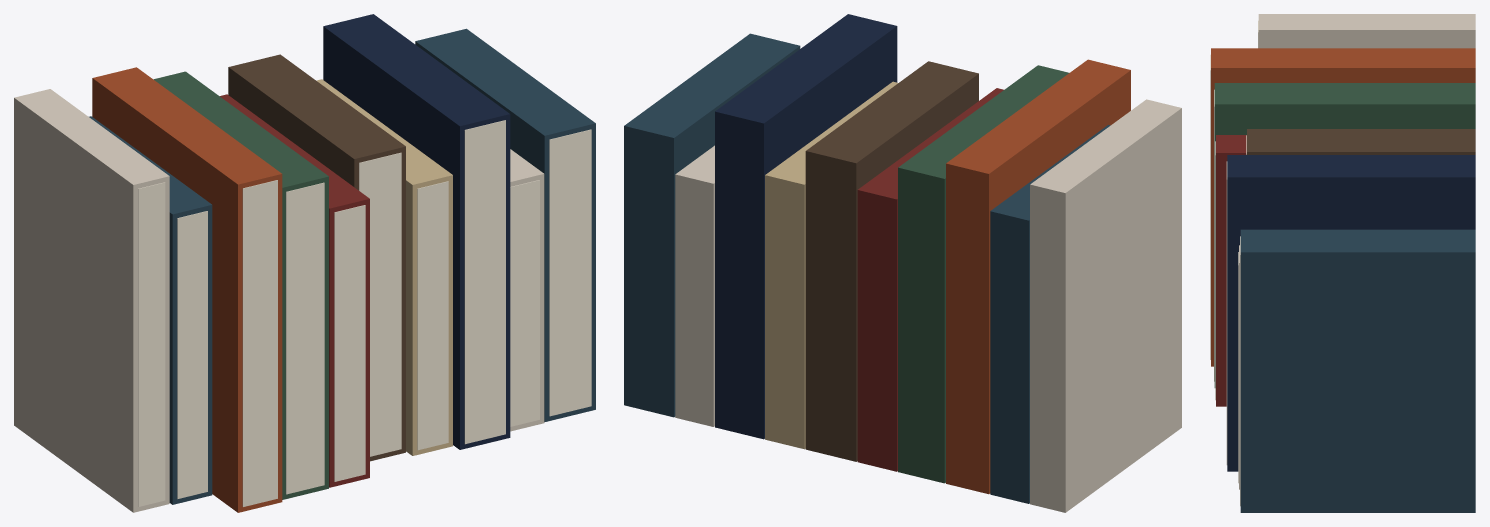
File: LIT-BKR-std.glb
3 renders of one model, left to right at view 1: azimuth 30°, elevation 25°; view 2: azimuth 150°, elevation 25°; view 3: azimuth 270°, elevation 25°, orthographic. The views are drawn at different scales.
Visible parts, largest first — view 1: LIT-BKR-std; view 2: LIT-BKR-std; view 3: LIT-BKR-std.
Part boxes in pixels (x1,y1,x2,y2): LIT-BKR-std: (14,14,595,512); LIT-BKR-std: (624,14,1181,512); LIT-BKR-std: (1210,14,1475,512).
Size of the model in its own units: 0.3882 by 0.2692 by 0.2169.
